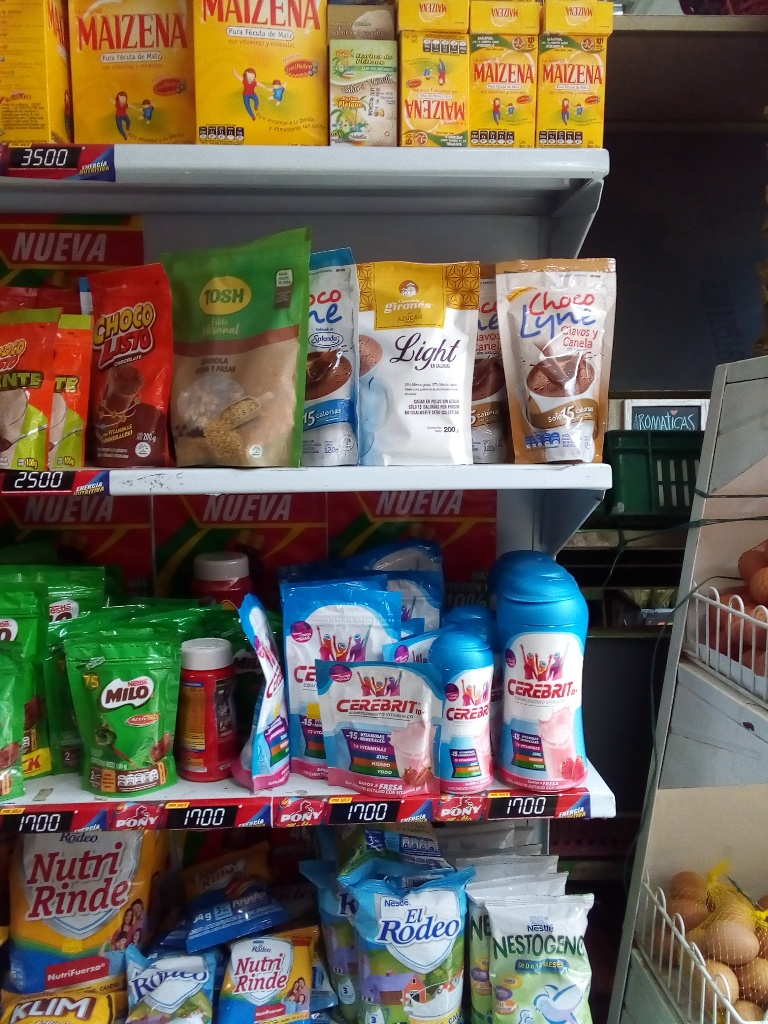COL0170102DYP10000: (0, 307, 52, 467)
COL0170103DYP20000: (92, 264, 173, 466)
COL0170203DYP10000: (65, 621, 184, 796)
